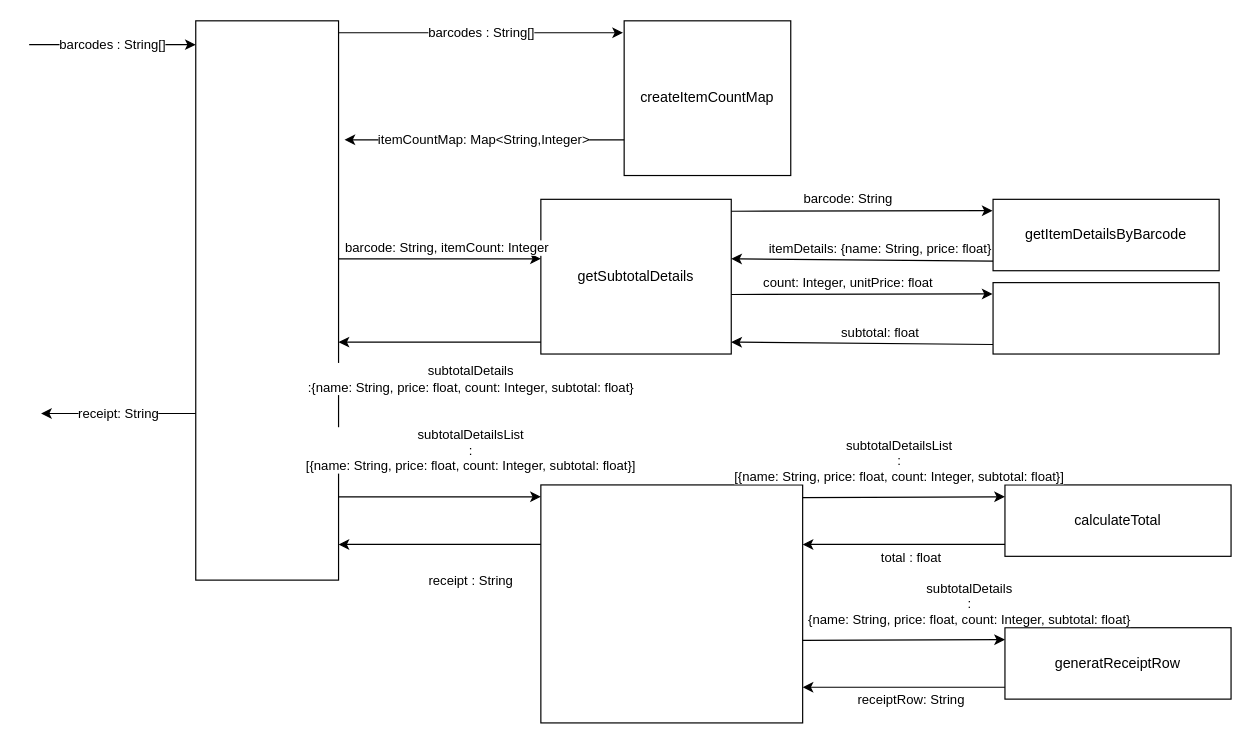
The diagram is 1252 pixels wide and 744 high, and some of its shapes have lost their labels. The shapes that lost their labels are listed below. From the top down, each one's centre as x and y in pixels, then its label:
(x=267, y=300): printReceipt
(x=1105, y=317): calculateSubtotal
(x=671, y=603): generateReceiptStringFromItems
